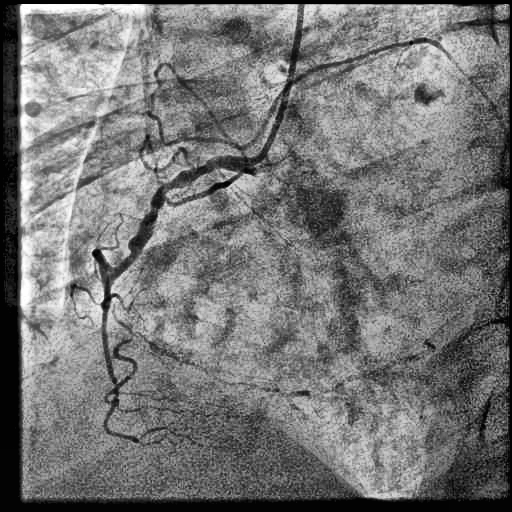pda: (101, 279, 136, 442)
rca: (110, 155, 252, 278)
